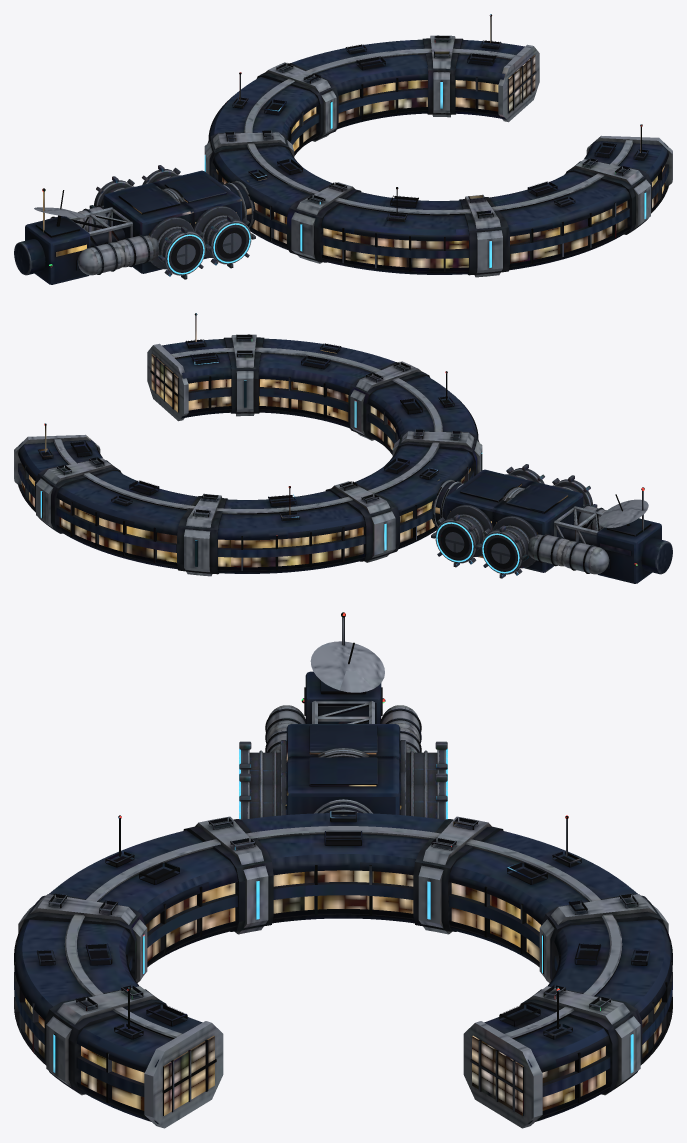
File: station-orbital-depot.glb
3 views of the same model, one above another, from view 1: azimuth 30°, elevation 25°; view 2: azimuth 150°, elevation 25°; view 3: azimuth 270°, elevation 25° (orthographic). The views are drawn at different scales.
Visible parts, largest first — view 1: station, berth_4, berth_2, berth_3; view 2: station, berth_3, berth_1, berth_4; view 3: station, berth_1, berth_2, berth_3, berth_4.
Boxes of the visible parts, left/top/right/bottom form: station: left=14, top=14, right=672, bottom=284; berth_4: left=149, top=217, right=208, bottom=279; berth_2: left=193, top=206, right=255, bottom=268; berth_3: left=89, top=176, right=134, bottom=208; station: left=14, top=313, right=672, bottom=583; berth_3: left=477, top=516, right=537, bottom=578; berth_1: left=431, top=505, right=493, bottom=567; berth_4: left=552, top=475, right=597, bottom=507; station: left=14, top=612, right=672, bottom=1128; berth_1: left=400, top=772, right=447, bottom=819; berth_2: left=239, top=772, right=286, bottom=819; berth_3: left=400, top=740, right=447, bottom=784; berth_4: left=239, top=740, right=286, bottom=784.
Bounding box in the file's own units: 1 × 0.1577 × 0.6847.
2 materials, 2 textured.
